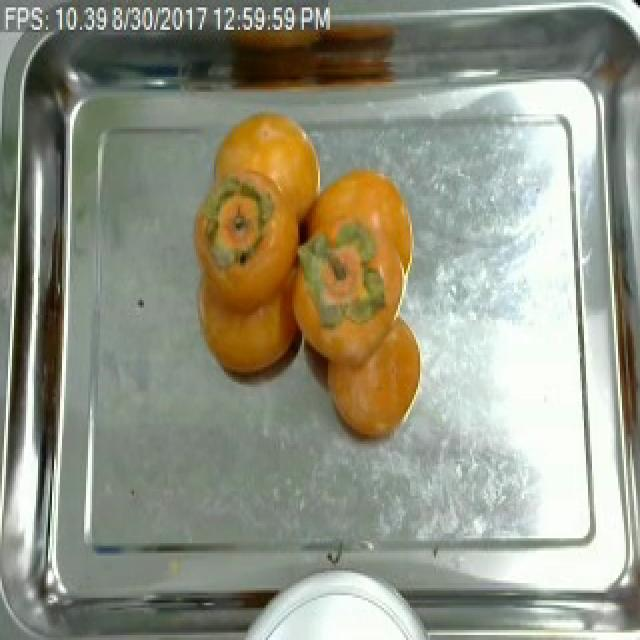Fruit: (296, 156, 426, 332), (290, 305, 430, 459), (204, 99, 330, 223)
